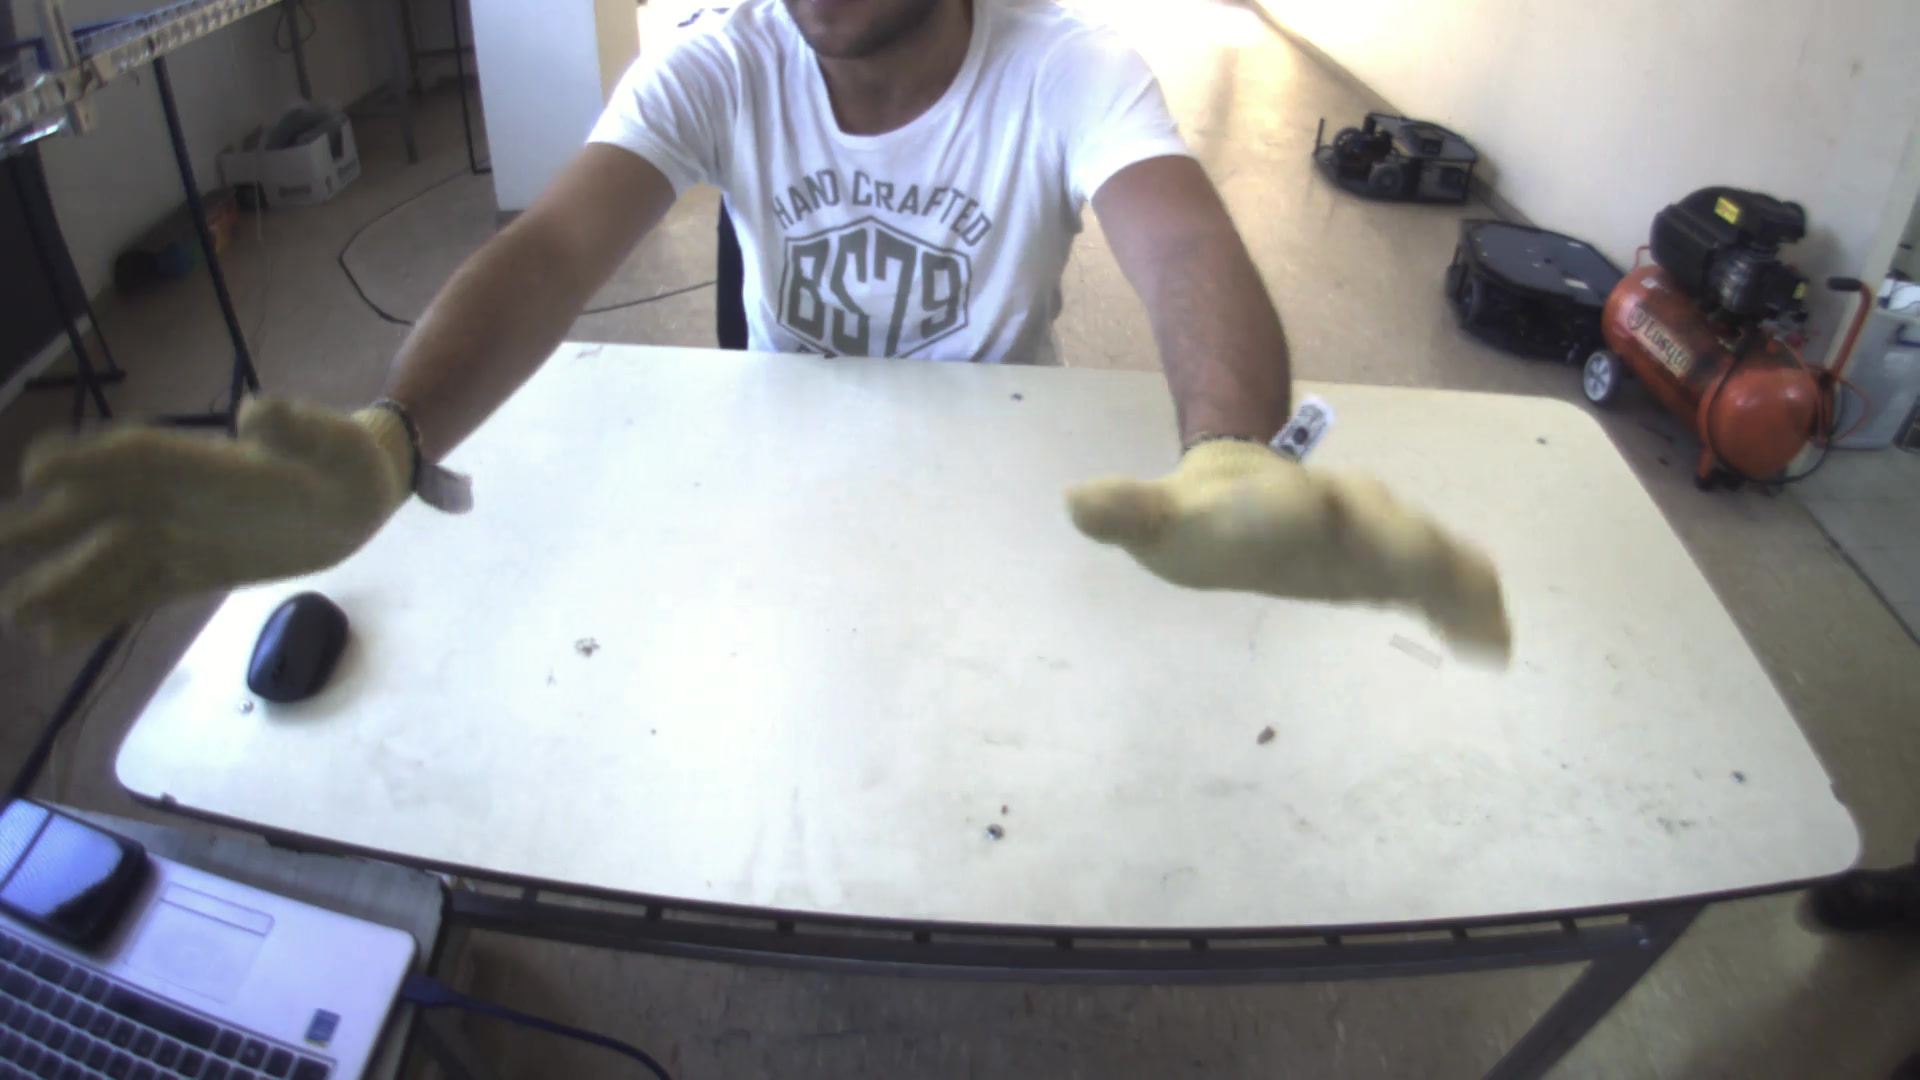hand: (1, 369, 440, 649), (1065, 436, 1509, 680)
